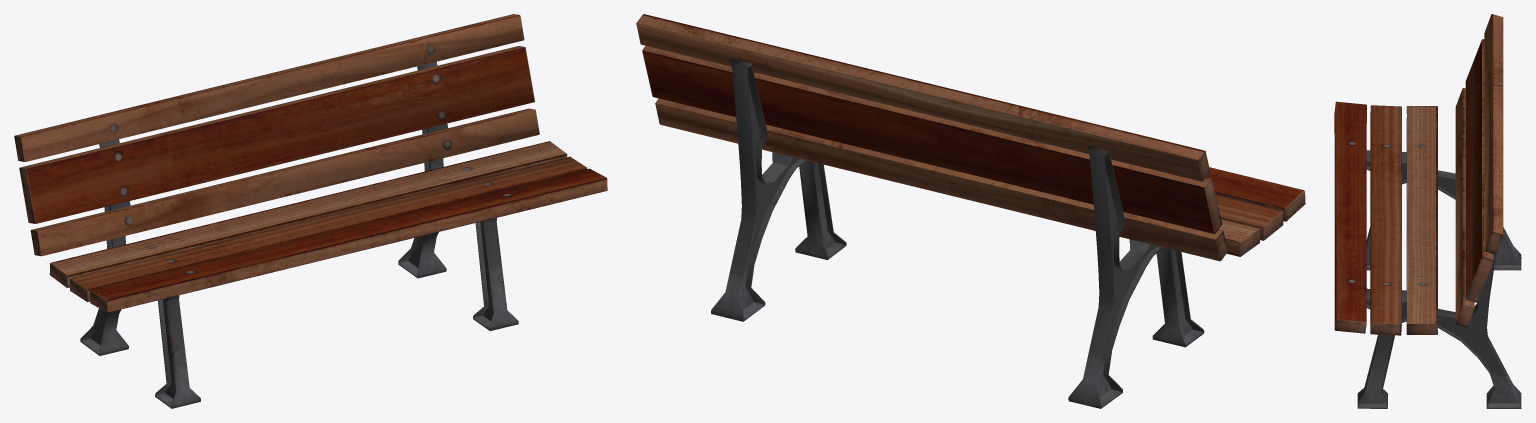
Rendered from bench.glb.
3 renders of one model, left to right at view 1: azimuth 30°, elevation 25°; view 2: azimuth 150°, elevation 25°; view 3: azimuth 270°, elevation 25°, orthographic. The views are drawn at different scales.
Parts seen in each view (by area): view 1: Cube.001, Cube.003, Cube.002; view 2: Cube.001, Cube.003, Cube.002; view 3: Cube.001, Cube.003, Cube.002.
Part boxes in pixels (x1,y1,x2,y2): Cube.001: (15,14,607,312); Cube.003: (80,61,518,408); Cube.002: (14,14,607,312); Cube.001: (636,14,1303,261); Cube.003: (711,58,1204,408); Cube.002: (636,14,1305,261); Cube.001: (1334,14,1503,334); Cube.003: (1357,150,1521,408); Cube.002: (1334,14,1502,335).
Bounding box in the file's own units: 2 × 0.8998 × 0.7233.
Materials: 3 (3 with a texture image).
